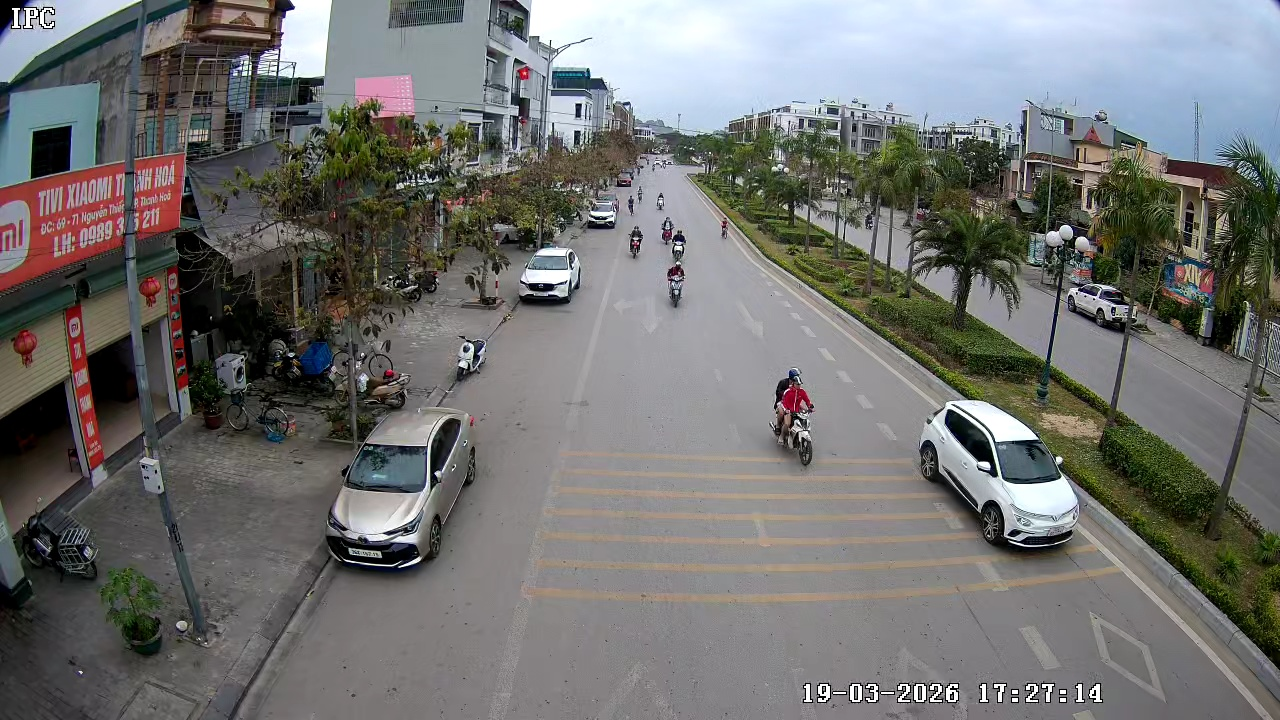car: (325, 405, 478, 571), (918, 397, 1079, 547), (518, 246, 582, 304), (583, 198, 619, 228)
motorbike: (768, 366, 817, 467), (353, 338, 411, 411), (453, 331, 487, 382), (664, 259, 687, 307), (669, 222, 687, 262), (626, 225, 642, 258), (660, 218, 673, 248), (655, 188, 667, 213)
